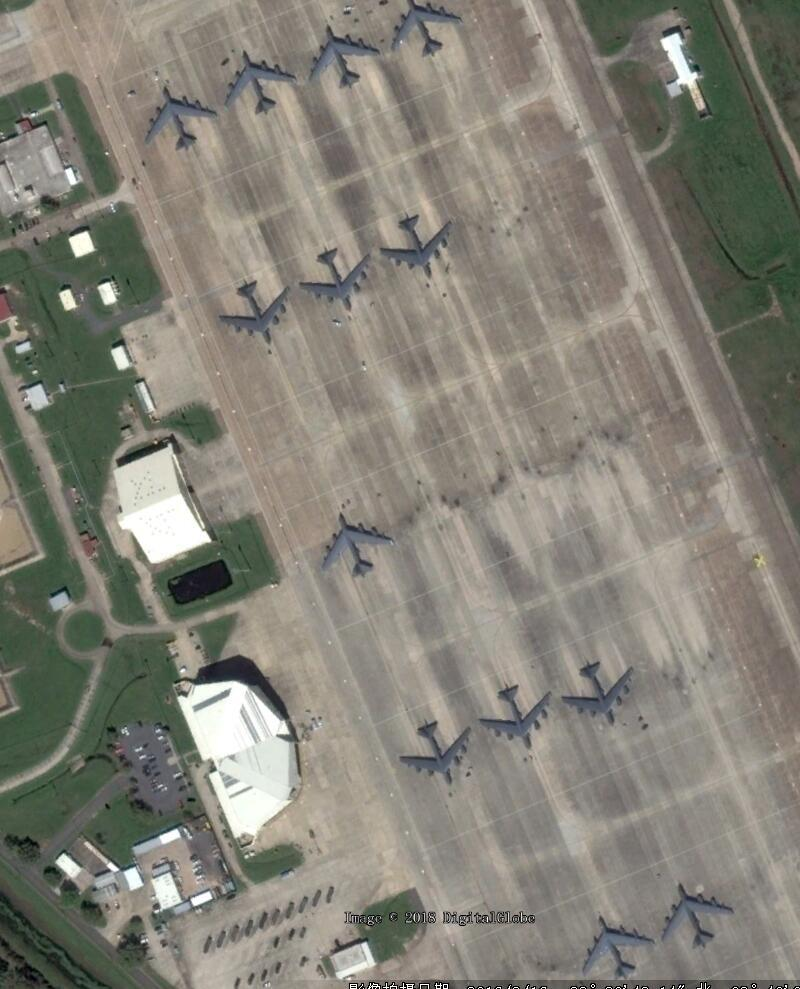A8: (395, 716, 477, 789), (560, 656, 637, 732), (219, 47, 299, 119), (479, 680, 556, 754), (575, 910, 656, 980), (660, 879, 737, 952), (377, 211, 458, 280), (302, 21, 382, 90), (217, 279, 292, 347), (295, 246, 374, 310), (142, 88, 217, 154), (321, 512, 393, 579), (385, 0, 468, 58)
